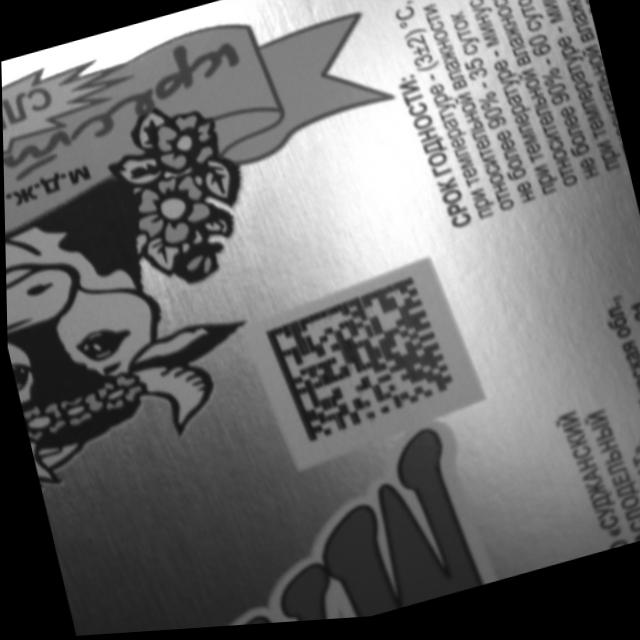datamatrix: (259, 277, 457, 454)
